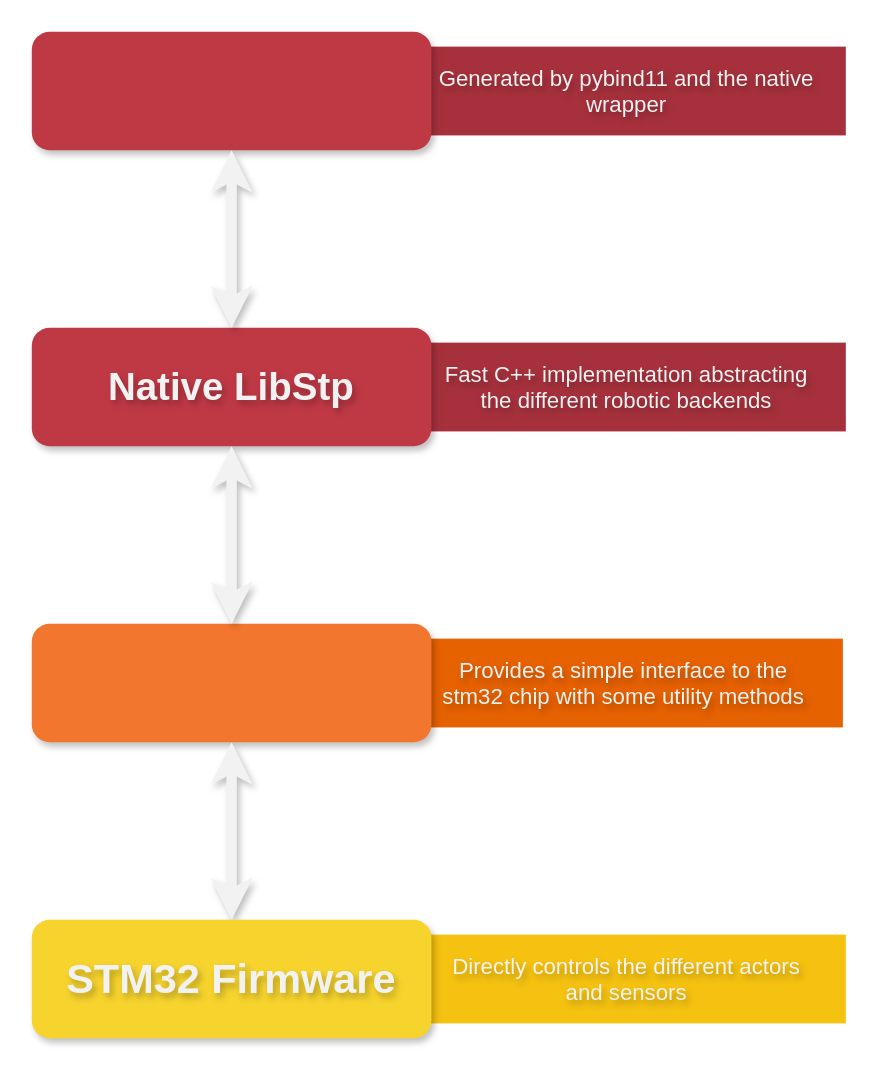
This 870x1073 diagram has some shape labels left out. The centre of each missing label's shape, as x and y in pixels:
LibWallaby: pixel 232 684
Python LibStp Binding: pixel 232 92
